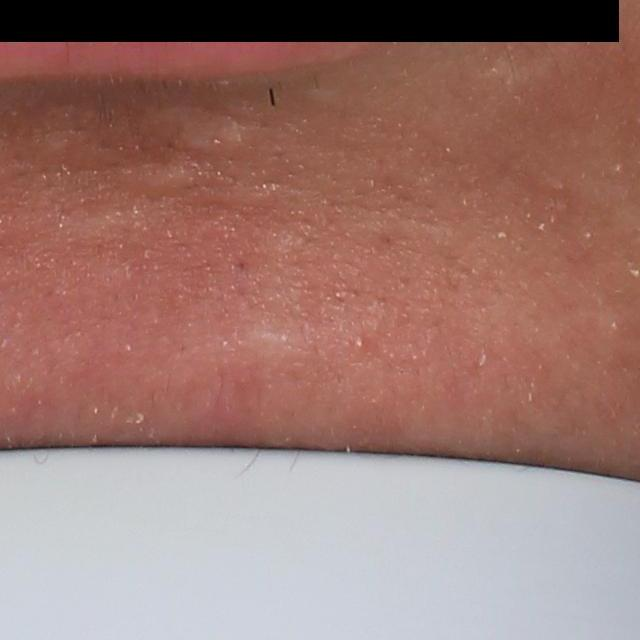hypertrophic_scar: (139, 106, 265, 151), (118, 160, 198, 196), (238, 325, 301, 359), (299, 85, 344, 104)
